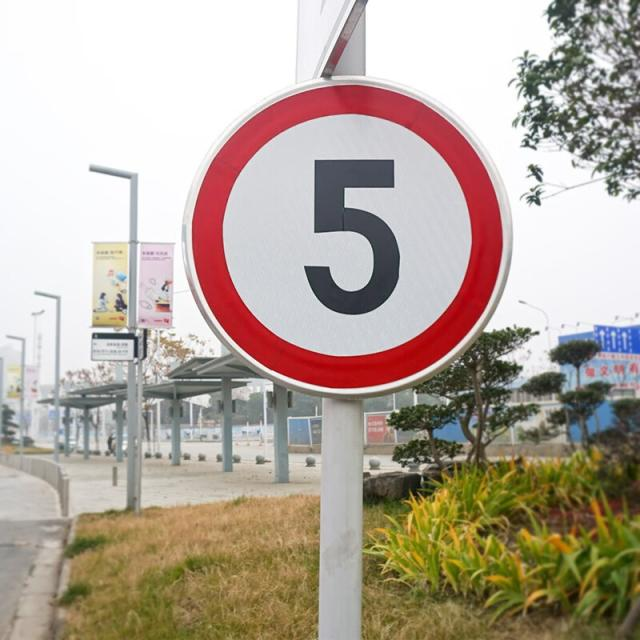speed limit 10: (180, 73, 512, 399)
